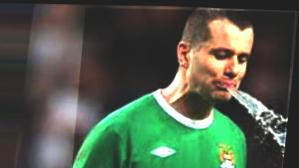spitting: (71, 2, 299, 167)
